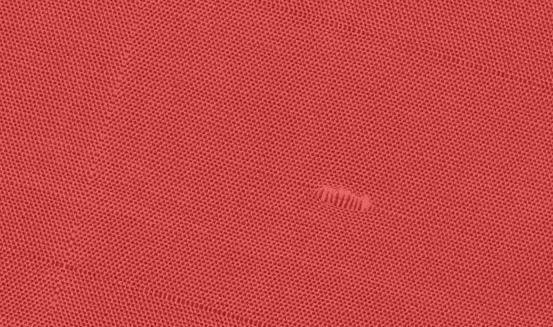slub: (306, 182, 375, 215)
